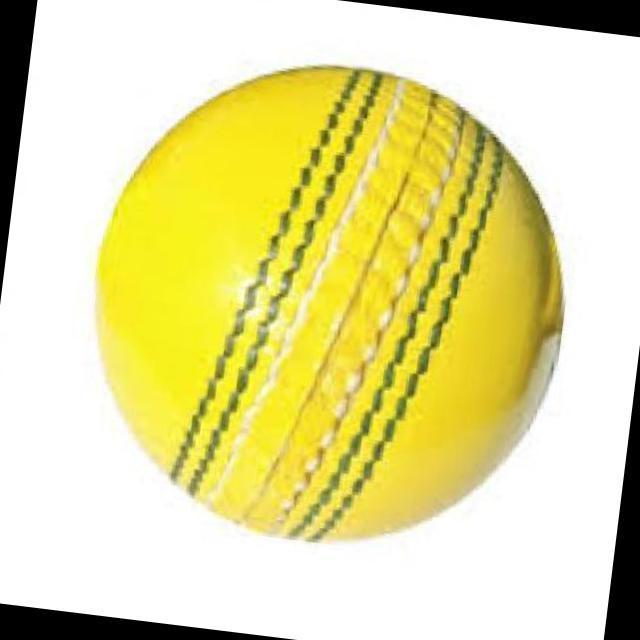-: (53, 73, 640, 563)
